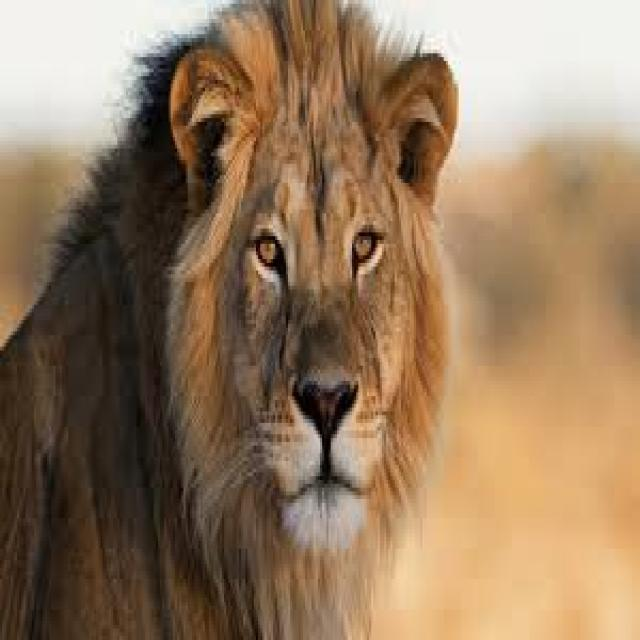Lion: (0, 0, 459, 636)
